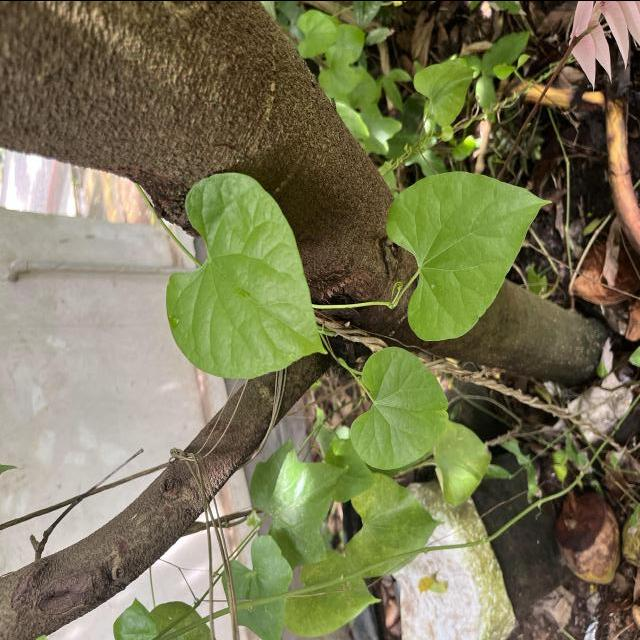Tinospora cordifolia: (162, 168, 330, 382), (382, 168, 554, 342), (348, 343, 451, 472)
